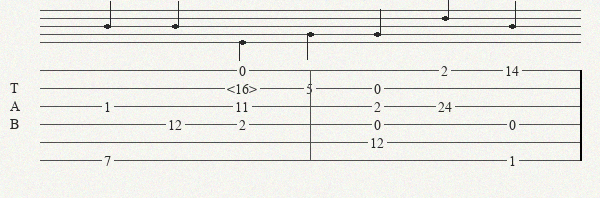0: (239, 63, 250, 77), (374, 81, 385, 95), (374, 117, 385, 131), (509, 117, 520, 131)
1: (104, 99, 115, 113), (509, 153, 520, 167)
11: (235, 99, 253, 113)
12: (168, 117, 186, 131), (370, 135, 388, 149)
14: (505, 63, 523, 77)
2: (239, 117, 250, 131), (374, 99, 385, 113), (441, 63, 452, 77)
24: (438, 99, 456, 113)
5: (306, 81, 317, 95)
7: (104, 153, 115, 167)
harmonic: (227, 81, 261, 95)
